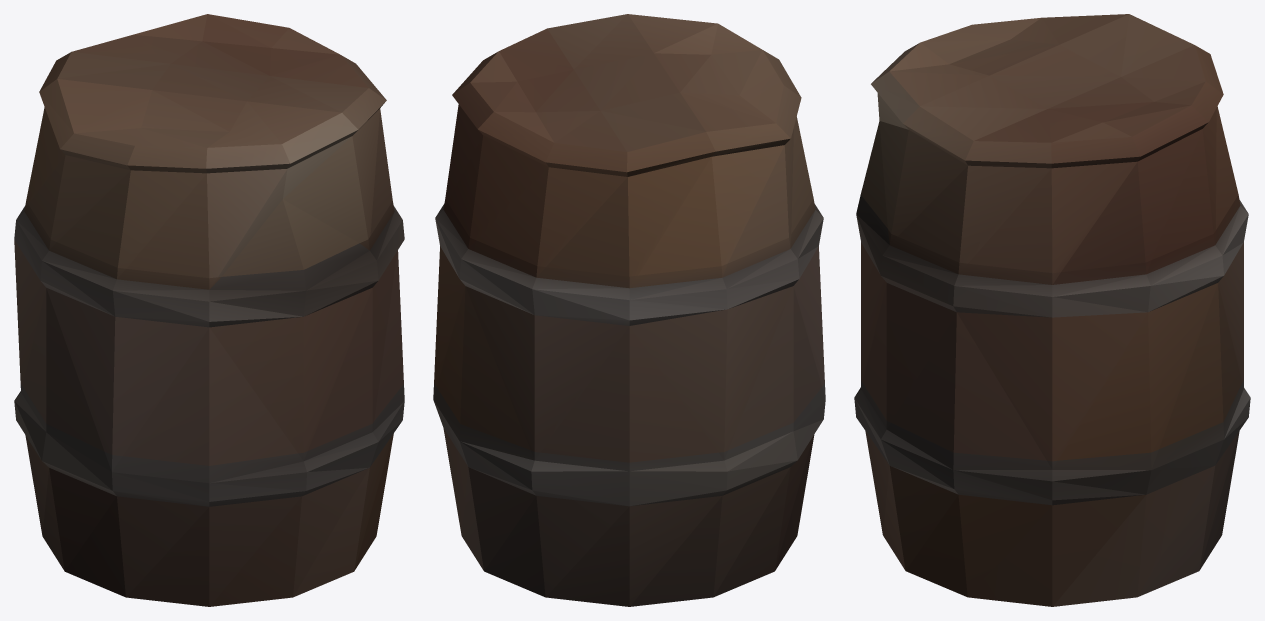
Rendered from Prop_BarrelCappedB.fbx.
The picture shows the model from 3 angles, left to right: view 1: azimuth 30°, elevation 25°; view 2: azimuth 150°, elevation 25°; view 3: azimuth 270°, elevation 25°; orthographic projection.
Visible parts, largest first — view 1: Prop_BarrelCappedB; view 2: Prop_BarrelCappedB; view 3: Prop_BarrelCappedB.
Part boxes in pixels (x1=…): Prop_BarrelCappedB: x1=14, y1=14, x2=404, y2=606; Prop_BarrelCappedB: x1=433, y1=14, x2=825, y2=606; Prop_BarrelCappedB: x1=854, y1=14, x2=1250, y2=606.
Bounding box in the file's own units: 102 × 132 × 102.
